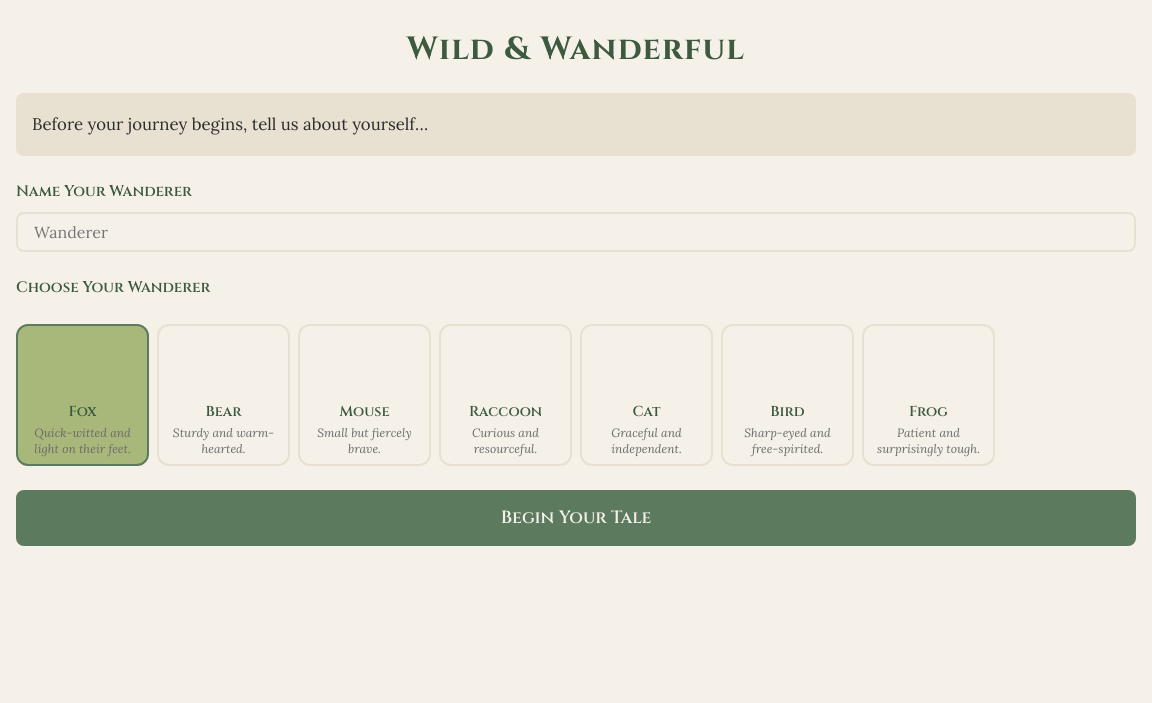
Test: IntroView › advances to heirloom step after confirming wanderer
The width and height of the screenshot is (1152, 703).
In the field with test id "name-input": coordinates (576, 232) [16, 212, 1136, 252], type "Bramble"
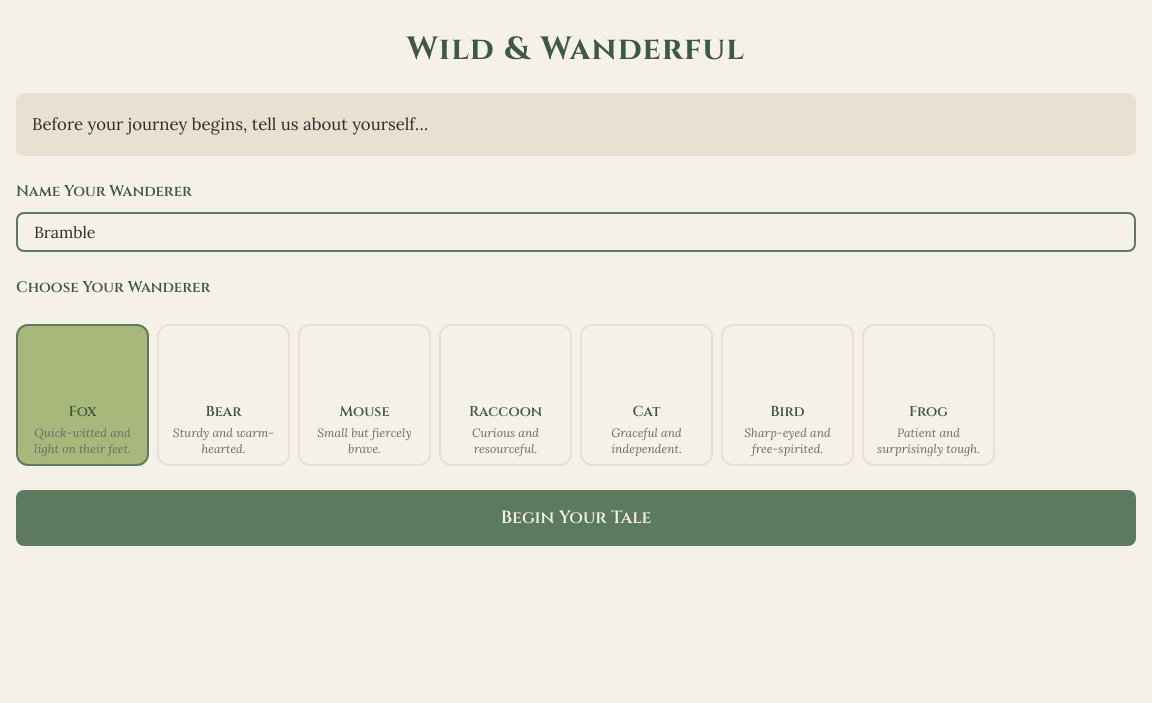
Click the button with test id "species-card-bear": coordinates (224, 395) [157, 324, 290, 466]
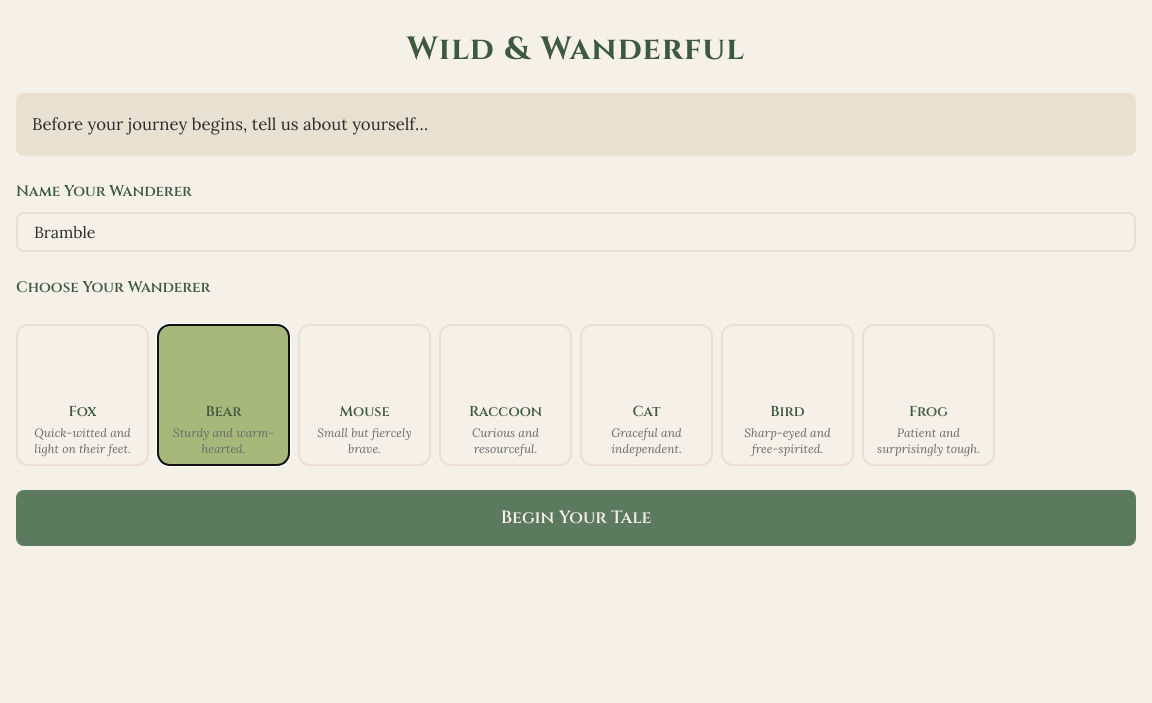
Click the button with test id "confirm-wanderer": coordinates (576, 518) [16, 490, 1136, 546]
(page scrolled)
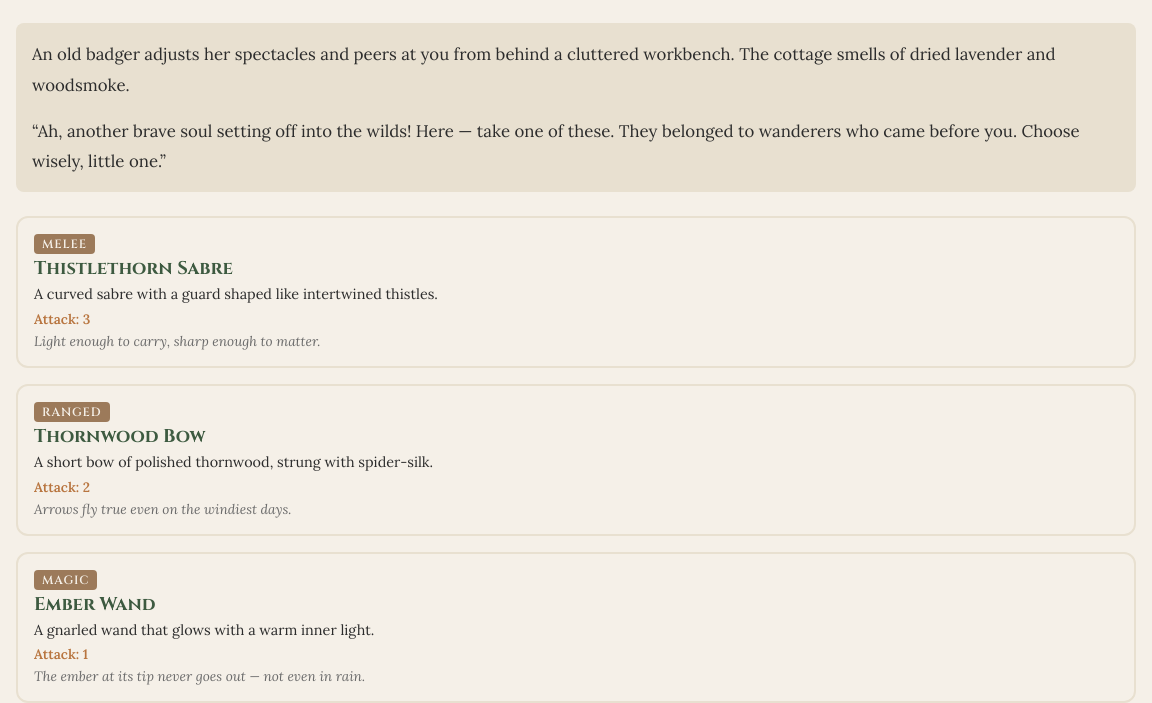
Expected: the element with test id "heirloom-choices" is shown
